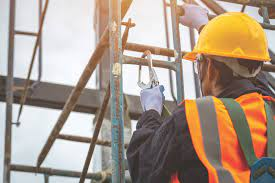Helmet: (182, 15, 271, 65)
Jacket: (178, 93, 275, 182)
